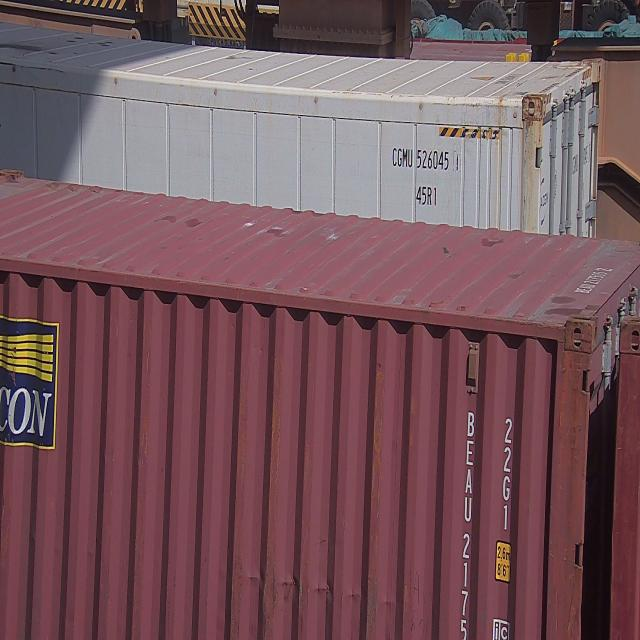dent: (234, 560, 397, 618)
